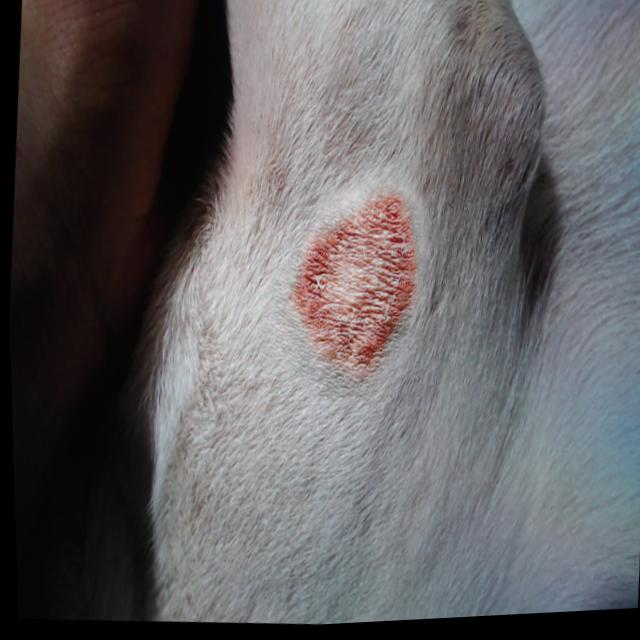ringworm: (276, 164, 438, 400)
